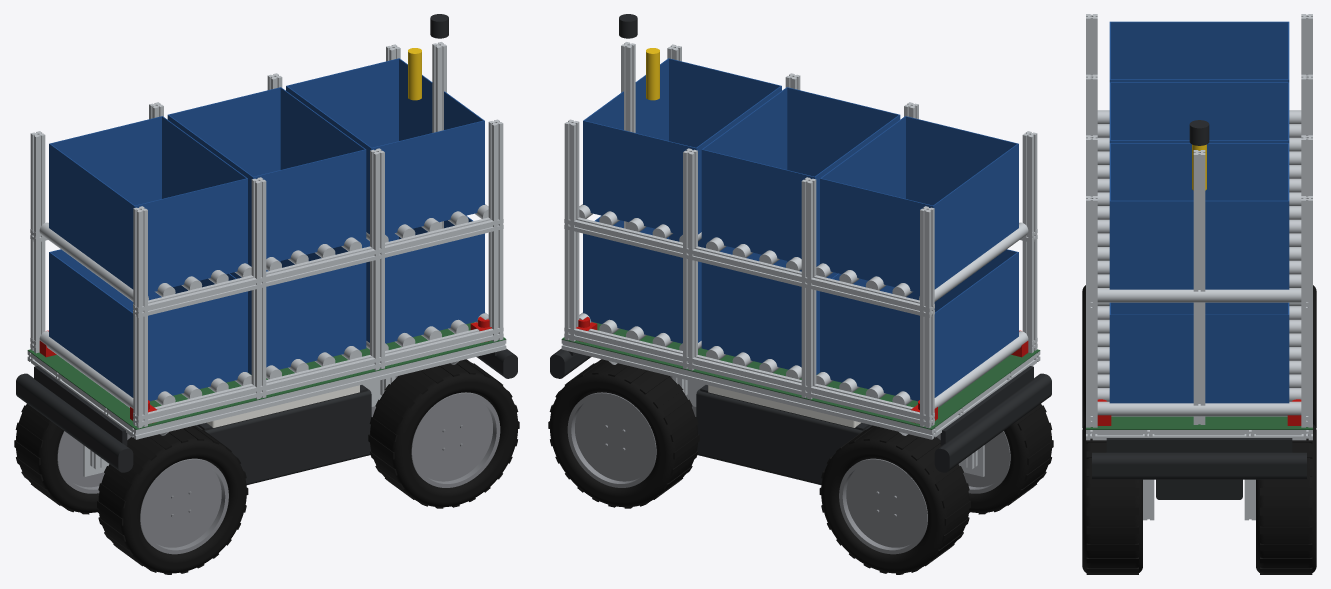
Rendered from renders_src_hauler.glb.
3 views of the same model, side by side, from view 1: azimuth 30°, elevation 25°; view 2: azimuth 150°, elevation 25°; view 3: azimuth 270°, elevation 25° (orthographic). The views are drawn at different scales.
Parts seen in each view (by area): view 1: tote_rack_rollers, tote_0_1, tote_1_1, tote_2_1, tote_0_0, tyre_1_-1, tyre_-1_-1, battery_keel, tote_1_0, tote_2_0, hub_1_-1, hub_-1_-1 (+9 smaller); view 2: tote_rack_rollers, tote_0_1, tote_1_1, tote_2_1, tote_0_0, tyre_1_1, tyre_-1_1, battery_keel, tote_1_0, tote_2_0, hub_1_1, hub_-1_1 (+9 smaller); view 3: tote_2_1, tote_rack_rollers, tote_2_0, tote_0_1, tote_1_1, bumpers, tyre_1_1, tyre_1_-1, sensor_post, deck_plate, deck_frame, battery_keel (+5 smaller).
Part boxes in pixels (x1,y1,x2,y2): tote_rack_rollers: (30,44,503,428); tote_0_1: (49,116,247,293); tote_1_1: (167,87,366,266); tote_2_1: (286,58,484,234); tote_0_0: (49,249,247,401); tyre_1_-1: (368,359,519,508); tyre_-1_-1: (97,425,248,574); battery_keel: (195,385,371,485); tote_1_0: (230,246,366,374); tote_2_0: (359,215,484,343); hub_1_-1: (411,392,500,487); hub_-1_-1: (140,458,228,554); tote_rack_rollers: (564,44,1037,428); tote_0_1: (820,116,1018,293); tote_1_1: (701,87,900,266); tote_2_1: (583,58,781,234); tote_0_0: (820,249,1018,401); tyre_1_1: (548,359,699,508); tyre_-1_1: (819,425,970,574); battery_keel: (696,385,872,485); tote_1_0: (701,246,837,374); tote_2_0: (583,215,708,343); hub_1_1: (567,392,656,487); hub_-1_1: (839,458,927,554); tote_2_1: (1109,143,1289,289); tote_rack_rollers: (1086,14,1312,427); tote_2_0: (1109,302,1289,403); tote_0_1: (1109,21,1289,82); tote_1_1: (1109,82,1289,142); bumpers: (1092,438,1306,479); tyre_1_1: (1256,424,1316,574); tyre_1_-1: (1082,424,1142,574); sensor_post: (1193,150,1205,424); deck_plate: (1086,416,1312,429); deck_frame: (1086,430,1312,440); battery_keel: (1156,479,1242,499).
Size of the model in its own units: 1620 by 1707 by 783.
